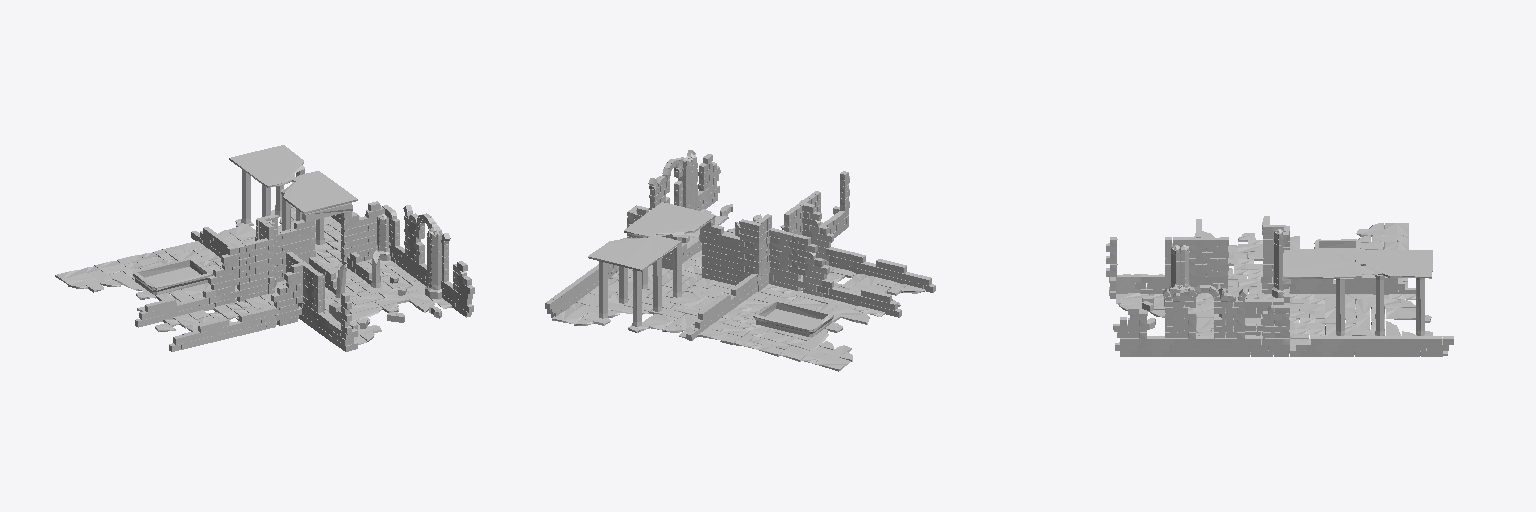
File: pierre ele 5fixfix.obj
The picture shows the model from 3 angles: view 1: azimuth 30°, elevation 25°; view 2: azimuth 150°, elevation 25°; view 3: azimuth 270°, elevation 25°; orthographic projection.
Visible parts, largest first — view 1: pilier_default10; view 2: pilier_default10; view 3: pilier_default10.
Part boxes in pixels (left/top/right/bottom): pilier_default10: left=55, top=145, right=474, bottom=351; pilier_default10: left=545, top=150, right=935, bottom=371; pilier_default10: left=1106, top=216, right=1453, bottom=356.
Size of the model in its own units: 16.67 by 4.11 by 18.39.